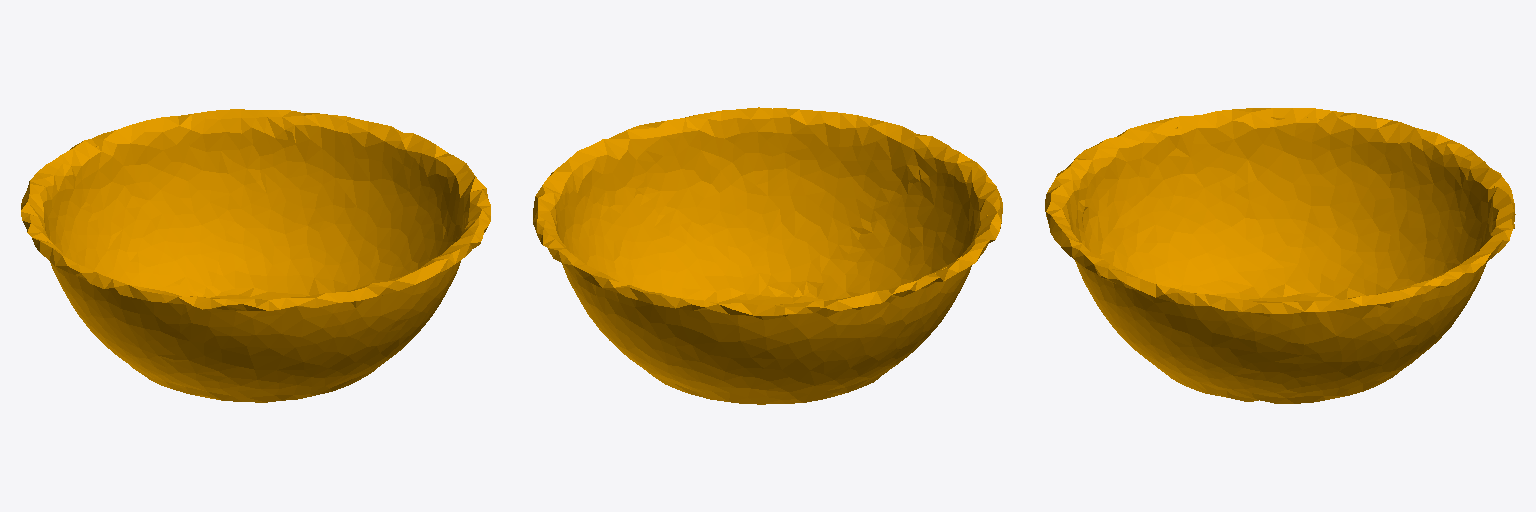
URDF robot description (bowl):
<?xml version="1.0" encoding="UTF-8"?>
<robot name="bowl">
	<link name="base">
		<collision>
			<geometry>
				<mesh filename="bowl.obj"/>
			</geometry>
			<origin xyz="0 0 0"/>
		</collision>
		<visual>
			<geometry>
				<mesh filename="bowl.obj"/>
			</geometry>
			<origin xyz="0 0 0"/>
		</visual>
		<inertial>
			<mass value="0.147"/>
			<inertia ixx="0.0003393874139665845" ixy="3.5692503538921426e-06" ixz="3.5928826293403644e-08" iyy="0.0003302863722457585" iyz="4.461925093315354e-06" izz="0.0005657025898069795" />
			<origin xyz="0.00043347408037158216 -0.0019731741252817085 -0.0010646423280328715"/>
		</inertial>
	</link>
</robot>

--- What the picture shows (computed from the rendered views, not written in the file) ---
Views: 3 orthographic renders of the robot side by side, from view 1: azimuth 30°, elevation 25°; view 2: azimuth 150°, elevation 25°; view 3: azimuth 270°, elevation 25°.
Model bowl with 1 links and 0 joints (none), rooted at base, posed every joint at zero.
Visible links, largest first — view 1: base; view 2: base; view 3: base.
Boxes of the visible links, x1,y1,x2,y2 form: base: [21, 109, 490, 402]; base: [533, 107, 1002, 404]; base: [1045, 108, 1515, 403].
Bounding box of the posed robot: 0.161 × 0.1602 × 0.0553 m (x, y, z).
1 mesh visuals loaded from 1 distinct referenced files (1 OBJ).